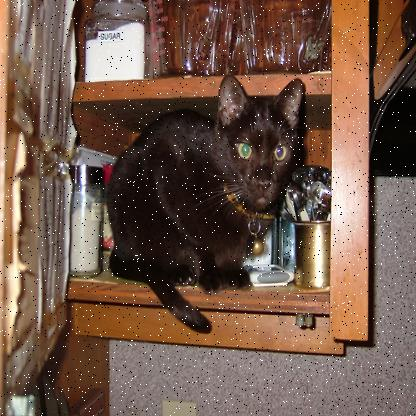cat: (86, 71, 308, 336)
